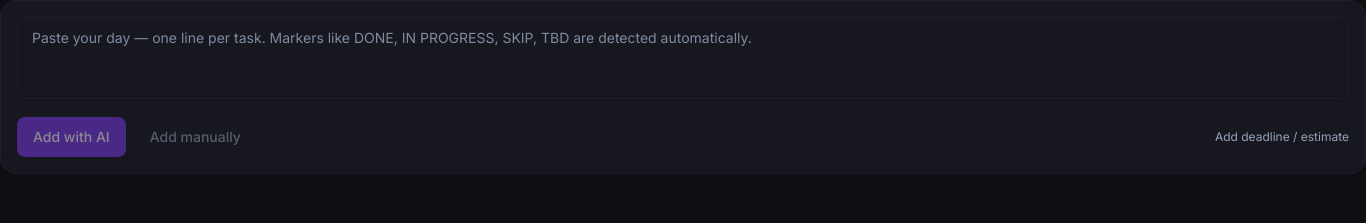
Scenario: QuickAdd › shows an error when no tasks are found
This screenshot has width=1366, height=223.
Type "blah" into the text box named "New task". click: (683, 58)
box: [17, 17, 1349, 99]
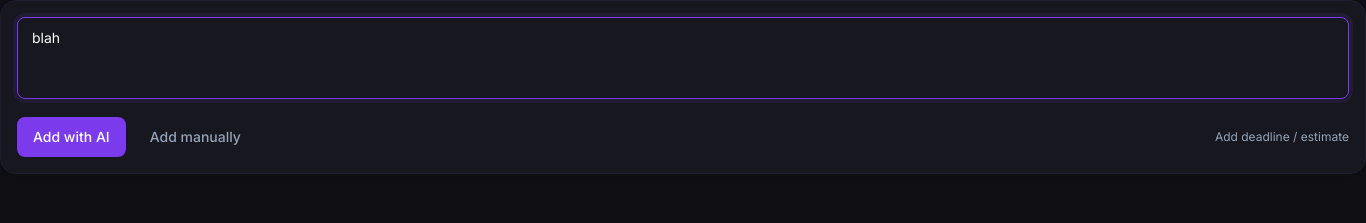
Click the button "Add with AI". click: (71, 137)
box: [17, 117, 126, 157]
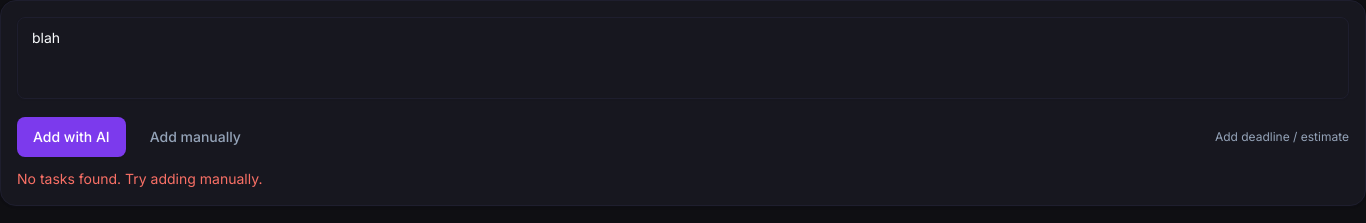
Expected: the text "No tasks found. Try adding manually." is shown, [17, 170, 262, 187]
